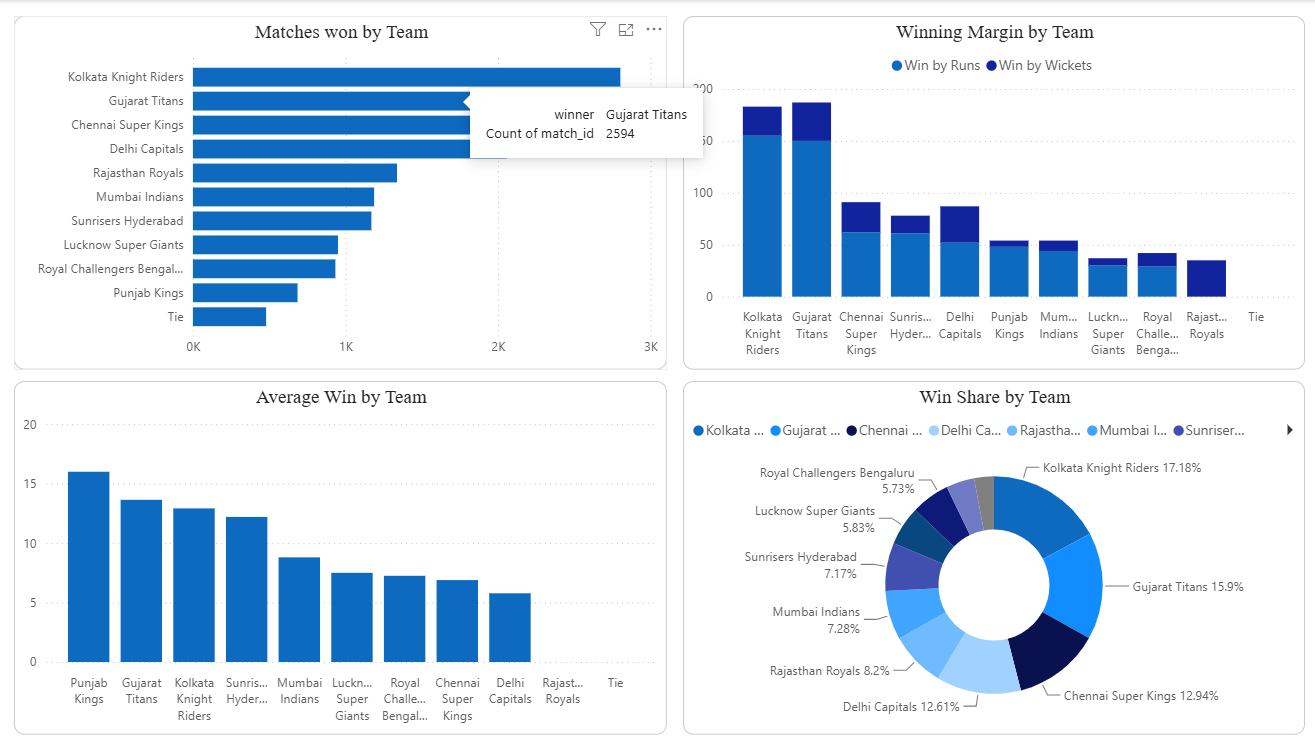

What the dashboard file says about the page in this screenshot:
{"tool":"powerbi","page":{"name":"🏆Team Winning Analyisi Dashboard","canvas":[1280,720],"ordinal":3},"visuals":[{"type":"clusteredBarChart","title":"Matches won by Team","fields":{"Category":["matches_clean.winner"],"Y":["CountNonNull(deliveries_clean.match_id)"]},"box":[13.6,15.6,635.1,344.3],"z":0},{"type":"lineStackedColumnComboChart","title":"Winning Margin by Team","fields":{"Category":["matches_clean.winner"],"Y":["Sum(matches_clean.win_by_runs)","Sum(matches_clean.win_by_wickets)"]},"box":[664.3,15.6,605,344.3],"z":1000},{"type":"columnChart","title":"Average Win by Team","fields":{"Category":["matches_clean.winner"],"Y":["Avg(matches_clean.win_by_runs)"]},"box":[13.6,370.6,635.1,344.3],"z":2000},{"type":"donutChart","title":"Win Share by Team","fields":{"Category":["matches_clean.winner"],"Y":["CountNonNull(deliveries_clean.match_id)"]},"box":[664.3,370.6,605,344.3],"z":2001}]}

Visuals, with their boxes in screenshot pixels (x1, y1, x2, y2), scaled from the page's 1280x720 canvas onto the 1315x740 screenshot:
"Matches won by Team" clusteredBarChart: <box>14,16,666,370</box>
"Winning Margin by Team" lineStackedColumnComboChart: <box>682,16,1304,370</box>
"Average Win by Team" columnChart: <box>14,381,666,735</box>
"Win Share by Team" donutChart: <box>682,381,1304,735</box>
